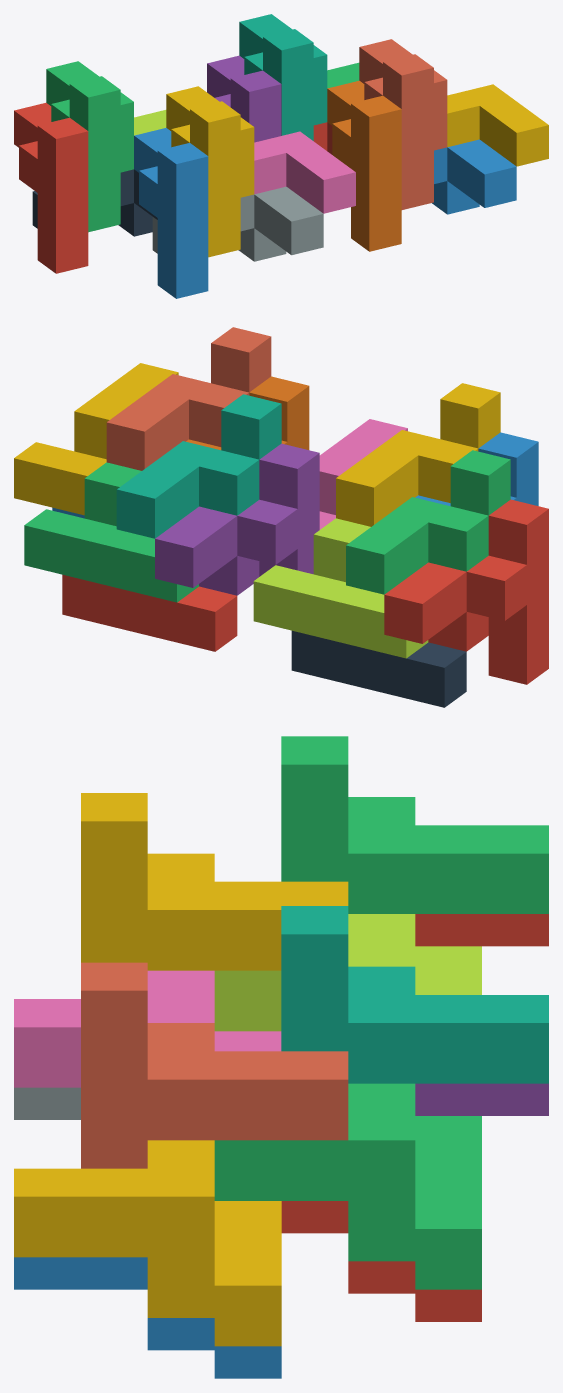
The model's file is tiling.obj.
3 views of the same model, one above another, from view 1: azimuth 30°, elevation 25°; view 2: azimuth 150°, elevation 25°; view 3: azimuth 270°, elevation 25° (orthographic). The views are drawn at different scales.
Parts seen in each view (by area): view 1: copy_1_domain_1, copy_1_domain_2, copy_1_domain_6, copy_1_domain_8, copy_1_domain_4, copy_1_domain_3, copy_1_domain_7, copy_2_domain_4, copy_2_domain_8, copy_2_domain_2, copy_2_domain_6, copy_1_domain_5 (+4 smaller); view 2: copy_1_domain_1, copy_1_domain_5, copy_1_domain_7, copy_1_domain_3, copy_1_domain_8, copy_1_domain_4, copy_2_domain_3, copy_2_domain_7, copy_2_domain_8, copy_2_domain_1, copy_2_domain_5, copy_2_domain_4 (+2 smaller); view 3: copy_2_domain_8, copy_1_domain_8, copy_2_domain_7, copy_1_domain_7, copy_1_domain_3, copy_1_domain_4, copy_2_domain_3, copy_2_domain_4, copy_2_domain_6, copy_2_domain_5, copy_1_domain_1, copy_1_domain_5 (+1 smaller).
Boxes of the visible parts, box(x1,y1,x2,y2) form: copy_1_domain_1: box(14, 103, 88, 273); copy_1_domain_2: box(134, 128, 208, 298); copy_1_domain_6: box(327, 80, 401, 251); copy_1_domain_8: box(359, 39, 447, 209); copy_1_domain_4: box(166, 86, 254, 257); copy_1_domain_3: box(46, 61, 133, 232); copy_1_domain_7: box(239, 14, 327, 140); copy_2_domain_4: box(254, 131, 355, 213); copy_2_domain_8: box(447, 84, 548, 166); copy_2_domain_2: box(152, 186, 323, 261); copy_2_domain_6: box(432, 139, 516, 214); copy_1_domain_5: box(207, 55, 281, 142); copy_1_domain_1: box(384, 499, 548, 684); copy_1_domain_5: box(155, 443, 319, 595); copy_1_domain_7: box(116, 394, 281, 538); copy_1_domain_3: box(346, 450, 510, 594); copy_1_domain_8: box(106, 327, 271, 470); copy_1_domain_4: box(336, 383, 500, 526); copy_2_domain_3: box(253, 518, 428, 658); copy_2_domain_7: box(24, 462, 198, 602); copy_2_domain_8: box(14, 363, 178, 515); copy_2_domain_1: box(291, 630, 466, 707); copy_2_domain_5: box(62, 574, 237, 651); copy_2_domain_4: box(319, 419, 407, 529); copy_2_domain_8: box(14, 1140, 281, 1346); copy_1_domain_8: box(81, 962, 348, 1168); copy_2_domain_7: box(214, 1083, 481, 1289); copy_1_domain_7: box(281, 906, 548, 1083); copy_1_domain_3: box(281, 736, 548, 913); copy_1_domain_4: box(81, 793, 348, 970); copy_2_domain_3: box(214, 914, 481, 1031); copy_2_domain_4: box(14, 970, 281, 1087); copy_2_domain_6: box(14, 1257, 281, 1378); copy_2_domain_5: box(281, 1201, 481, 1321); copy_1_domain_1: box(415, 914, 548, 946); copy_1_domain_5: box(415, 1083, 548, 1115).
Bounding box in the file's own units: 14 × 5 × 8.
